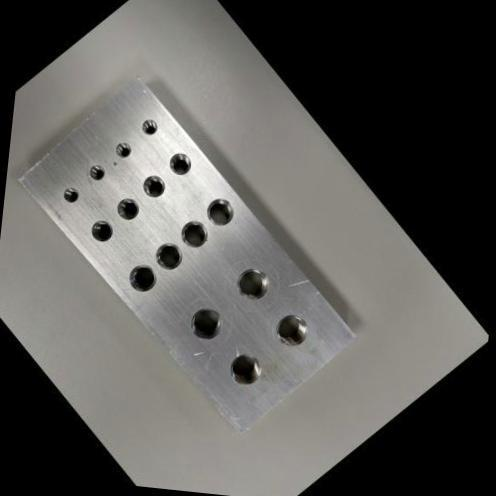hole: (181, 298, 234, 350), (228, 260, 280, 311), (266, 306, 318, 356), (220, 346, 270, 396), (120, 256, 165, 302), (198, 191, 242, 235), (172, 214, 216, 258), (148, 235, 192, 279), (136, 168, 172, 206), (110, 191, 146, 228), (163, 147, 199, 183), (85, 213, 120, 249), (137, 115, 163, 141), (110, 138, 136, 163), (58, 184, 85, 208), (85, 161, 110, 186)
